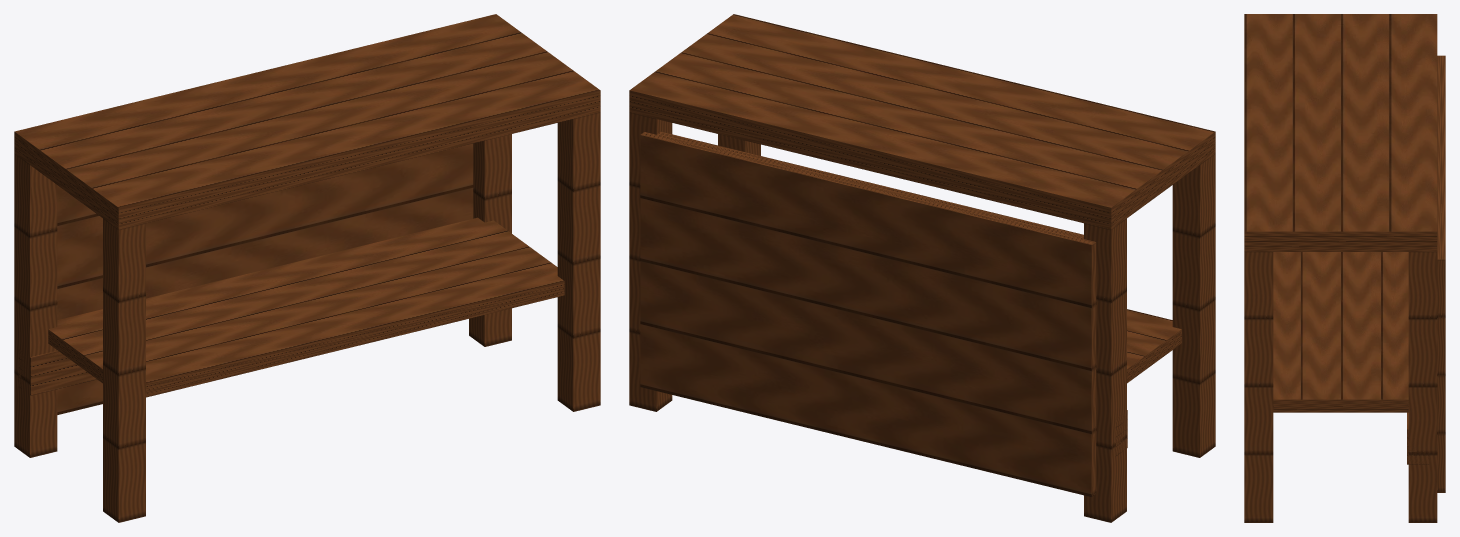
Rendered from roadside-survival-stops-service-window-counter-59cc1d76__23561.glb.
3 views of the same model, side by side, from view 1: azimuth 30°, elevation 25°; view 2: azimuth 150°, elevation 25°; view 3: azimuth 270°, elevation 25° (orthographic). The views are drawn at different scales.
Parts seen in each view (by area): view 1: service-window-counter; view 2: service-window-counter; view 3: service-window-counter.
Part boxes in pixels (box(x1,y1,x2,y2)): service-window-counter: box(14, 14, 600, 522); service-window-counter: box(629, 14, 1215, 522); service-window-counter: box(1244, 14, 1445, 522).
Bounding box in the file's own units: 1.6 × 0.9999 × 0.6251.
1 material, 1 textured.
